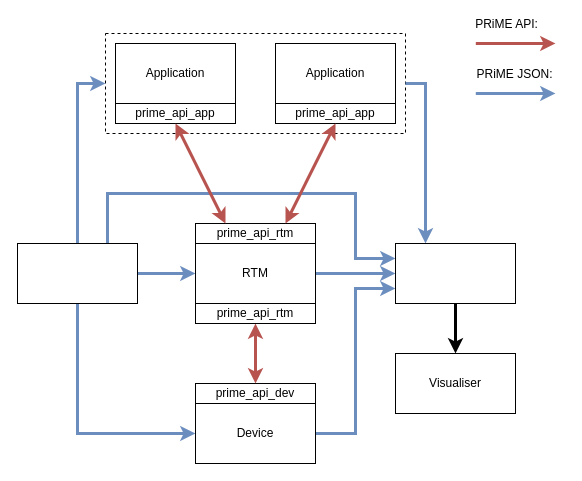
The diagram is 582 pixels wide and 481 high, and some of its shapes have lost their labels. The shapes that lost their labels are listed below. From the top down, each one's centre as x and y in pixels, then its label:
the point at 77,273: UI
the point at 455,273: Logger
